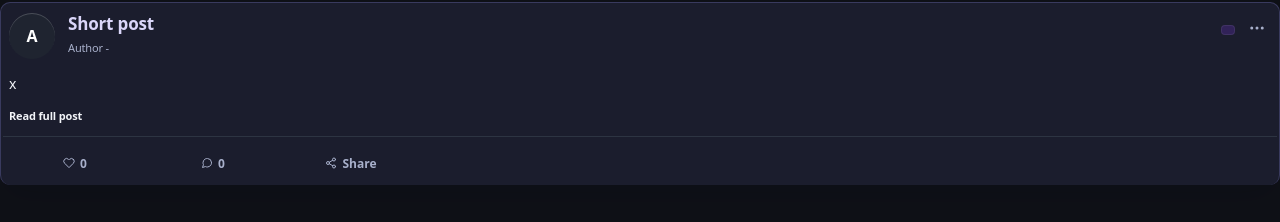
Test: keeps a tiny personal post's report menu outside the card clipping area
What coordinates should you click on to do the following:
click the button named "More options"
I would click on:
 (1256, 28)
Its box is [1241,13,1271,43].
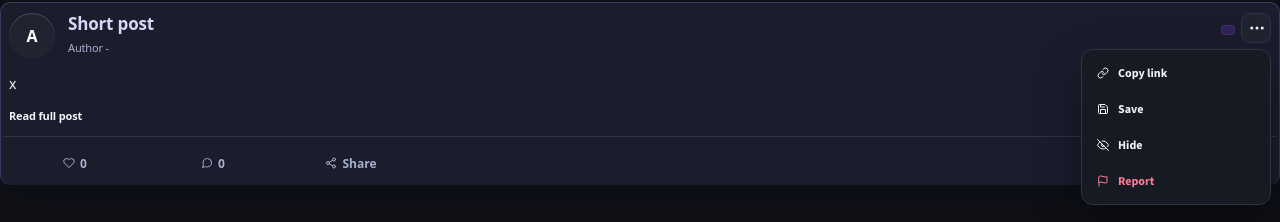
Expected: the menu item "Report" is shown, [1087,163,1265,199]
